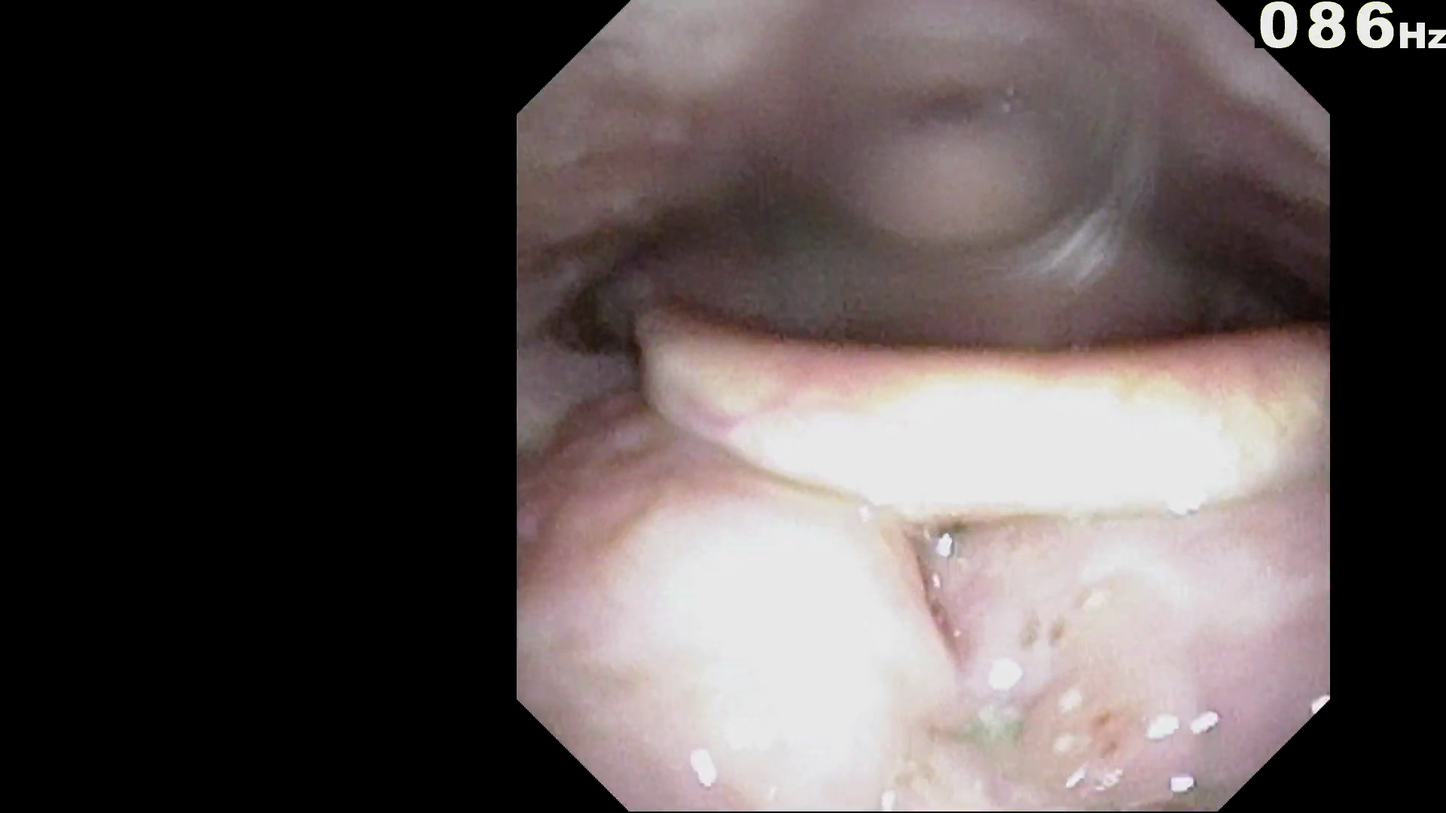epiglottis: (649, 398, 1297, 623)
